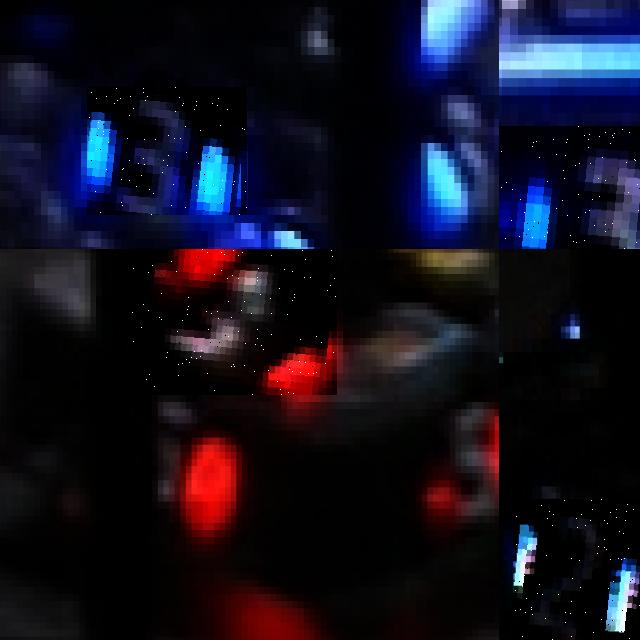B2: (512, 498, 640, 640)
B3: (88, 87, 248, 215), (499, 125, 640, 249)
R5: (129, 249, 337, 394), (416, 402, 499, 530)
